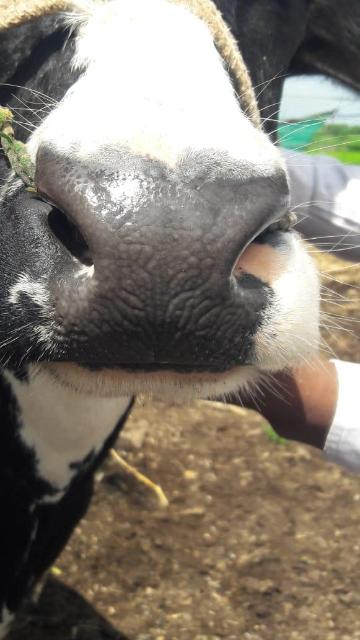Muzzle: (84, 170, 238, 358)
